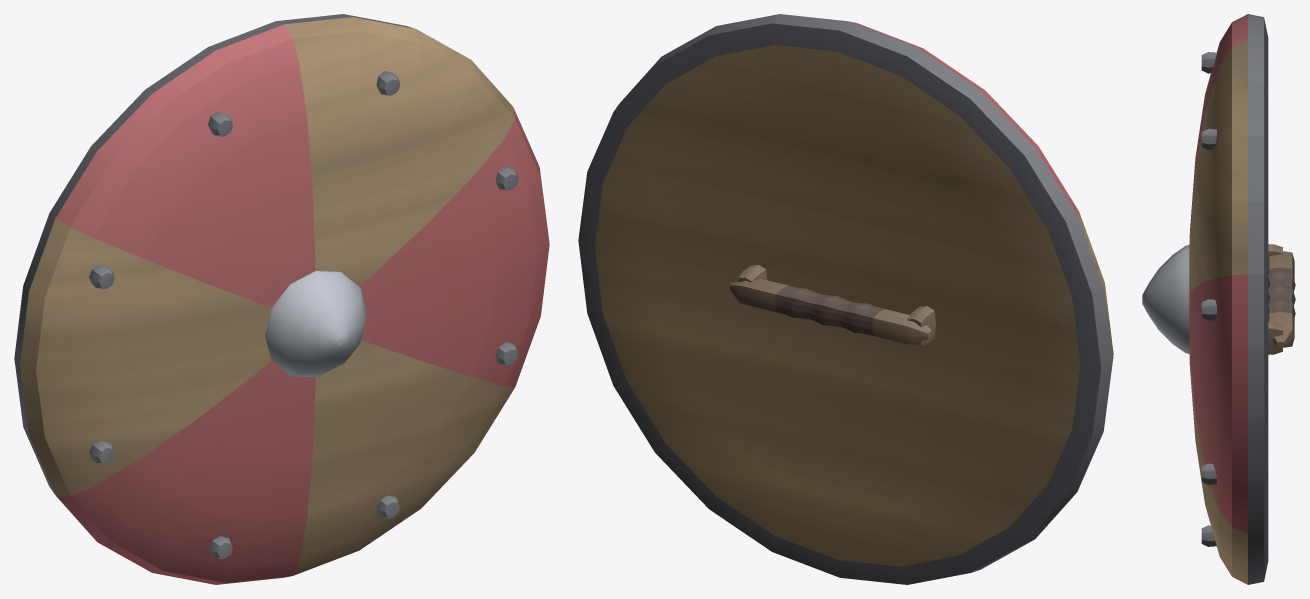
Rendered from WPN_08_Shield_Round_Bulwark.fbx.
3 views of the same model, side by side, from view 1: azimuth 30°, elevation 25°; view 2: azimuth 150°, elevation 25°; view 3: azimuth 270°, elevation 25° (orthographic). The views are drawn at different scales.
Parts seen in each view (by area): view 1: EXP_WPN_08_Shield_Round_Bulwark; view 2: EXP_WPN_08_Shield_Round_Bulwark; view 3: EXP_WPN_08_Shield_Round_Bulwark.
Boxes of the visible parts, box(x1,y1,x2,y2) form: EXP_WPN_08_Shield_Round_Bulwark: box(14, 14, 549, 584); EXP_WPN_08_Shield_Round_Bulwark: box(578, 14, 1113, 584); EXP_WPN_08_Shield_Round_Bulwark: box(1142, 14, 1295, 584).
Size of the model in its own units: 250 by 250 by 67.01.
1 material, 1 textured.
